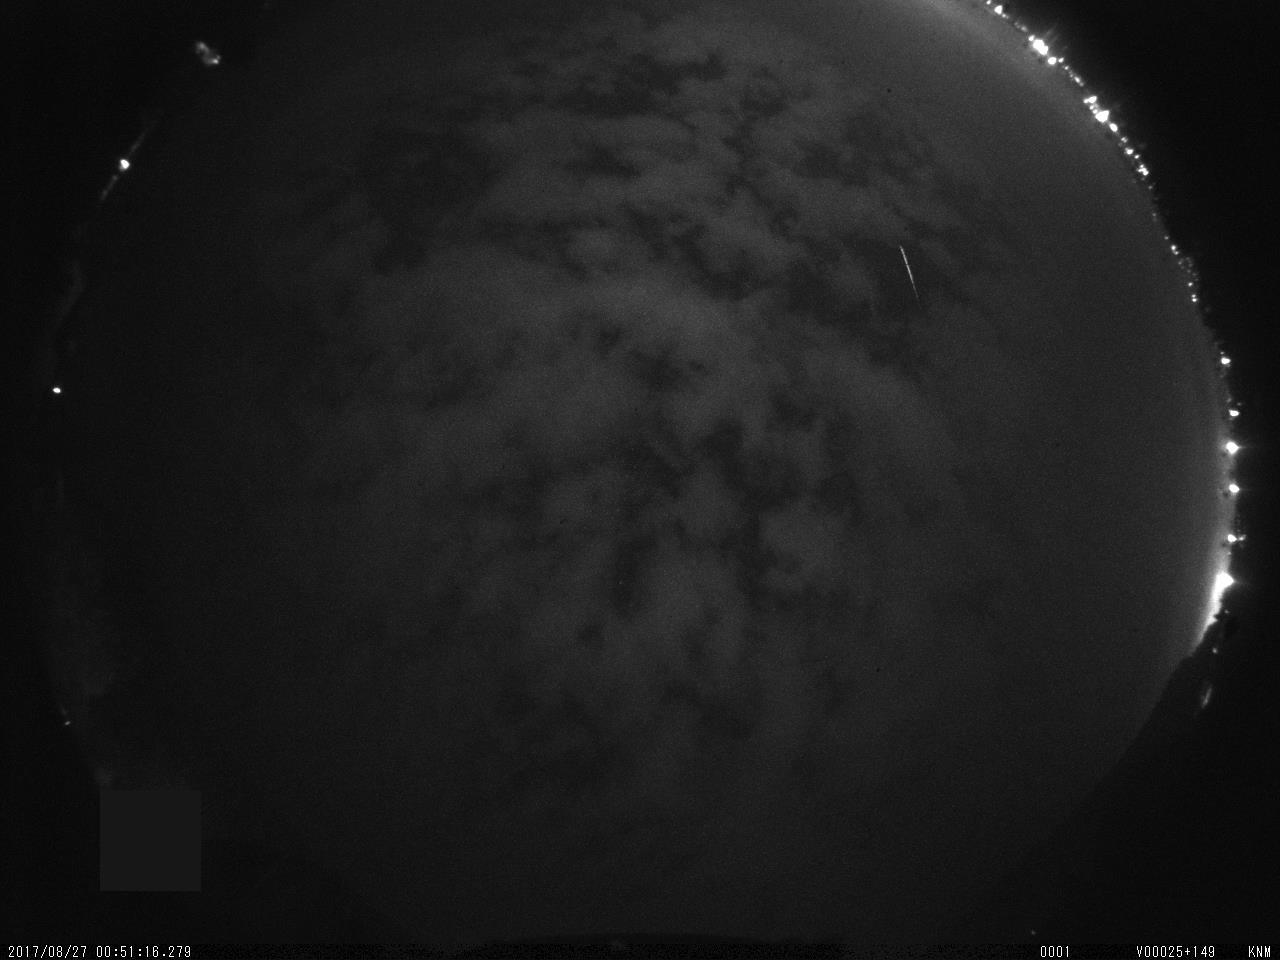meteor: (888, 237, 938, 324)
